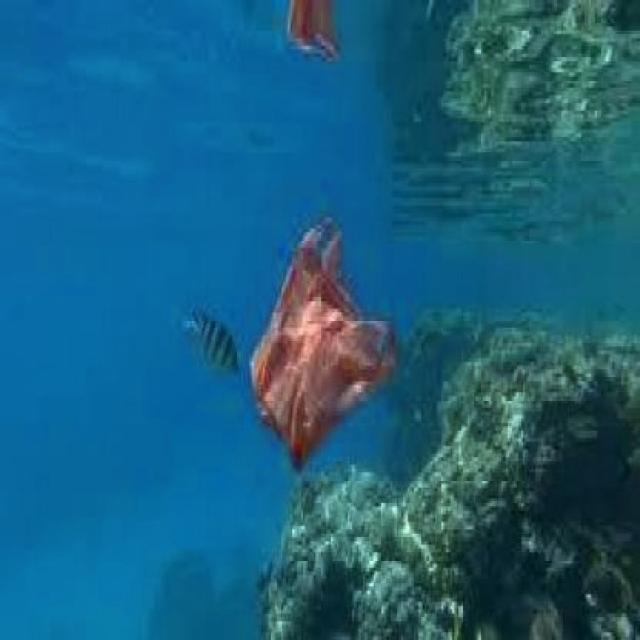pbag: (243, 198, 403, 480)
